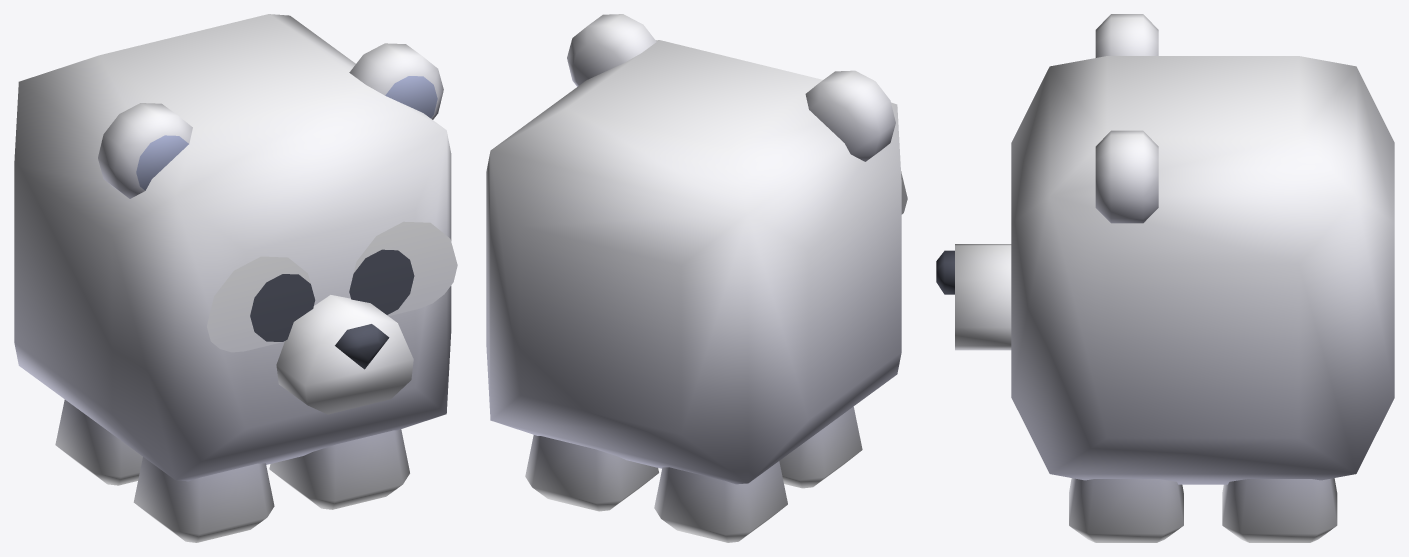
The model's file is seri 1 model 7(ayı).glb.
3 views of the same model, side by side, from view 1: azimuth 30°, elevation 25°; view 2: azimuth 150°, elevation 25°; view 3: azimuth 270°, elevation 25° (orthographic). The views are drawn at different scales.
Visible parts, largest first — view 1: body, leg-front-right, leg-front-left, leg-back-right; view 2: body, leg-back-right, leg-back-left, leg-front-right; view 3: body, leg-back-left, leg-front-left.
Part boxes in pixels (x1=…): body: x1=14, y1=14, x2=457, y2=481; leg-front-right: x1=133, y1=457, x2=274, y2=542; leg-front-left: x1=269, y1=429, x2=409, y2=509; leg-back-right: x1=55, y1=399, x2=142, y2=485; body: x1=486, y1=14, x2=907, y2=484; leg-back-right: x1=654, y1=461, x2=787, y2=542; leg-back-left: x1=525, y1=435, x2=658, y2=511; leg-front-right: x1=779, y1=406, x2=862, y2=488; body: x1=936, y1=14, x2=1394, y2=484; leg-back-left: x1=1222, y1=478, x2=1337, y2=542; leg-front-left: x1=1069, y1=478, x2=1183, y2=542.
Size of the model in its own units: 1.25 by 1.5 by 1.5.
Materials: 1 (1 with a texture image).
